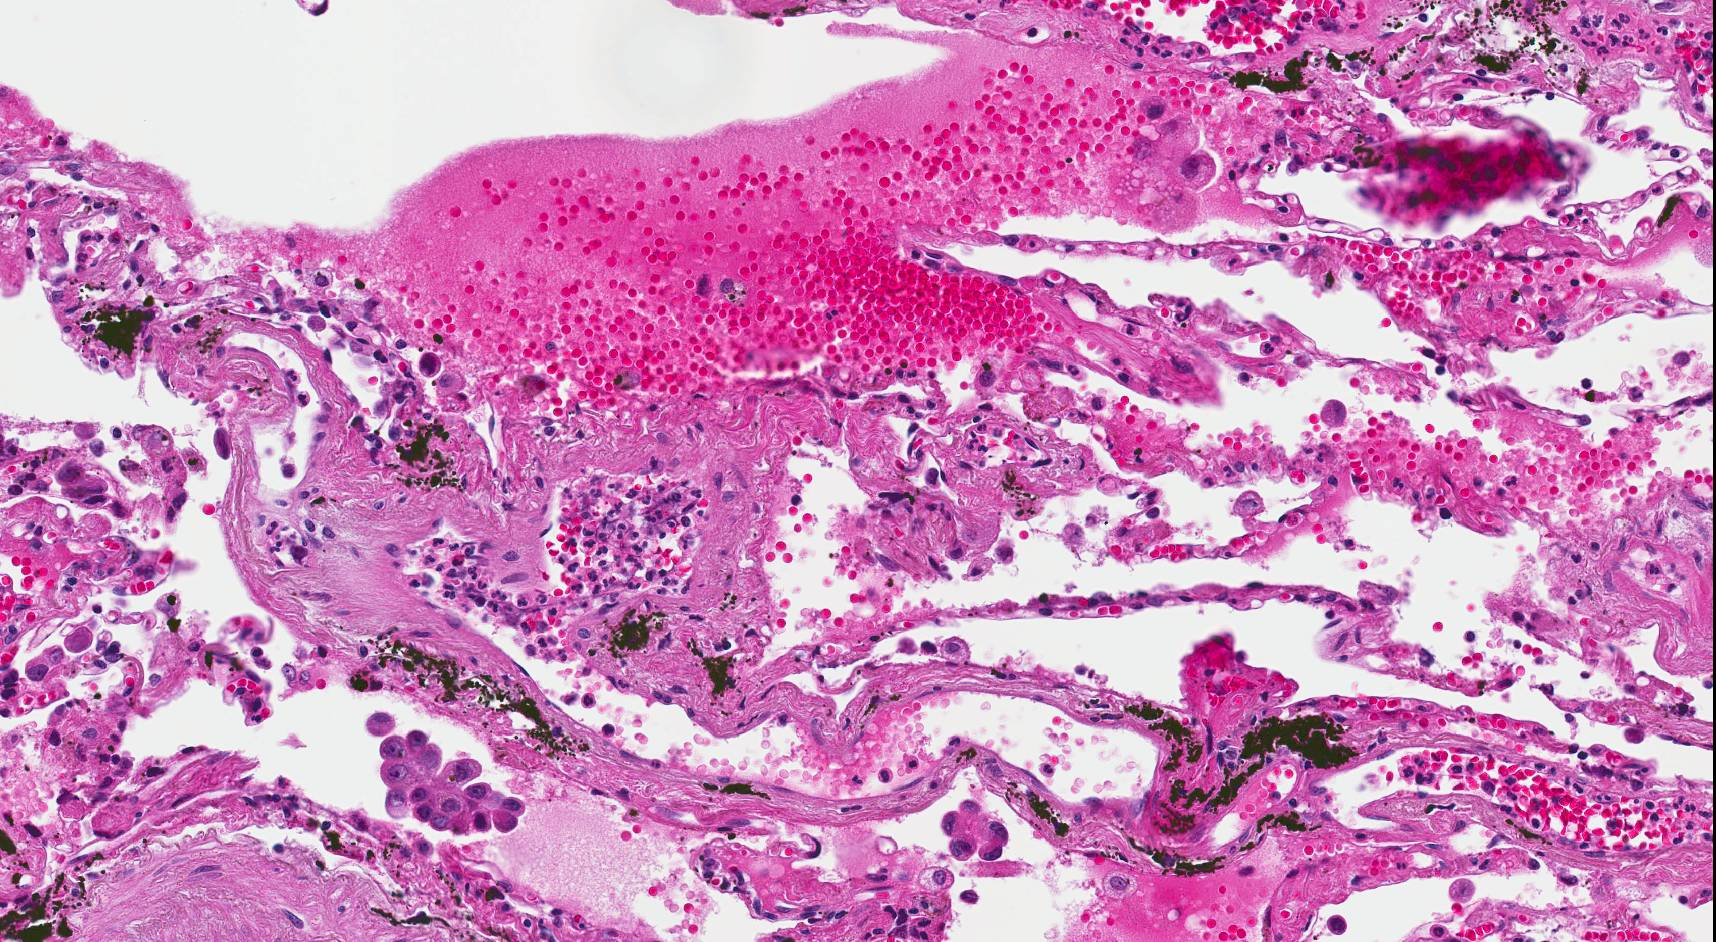stas: (380, 729, 528, 835), (938, 801, 1011, 861)
